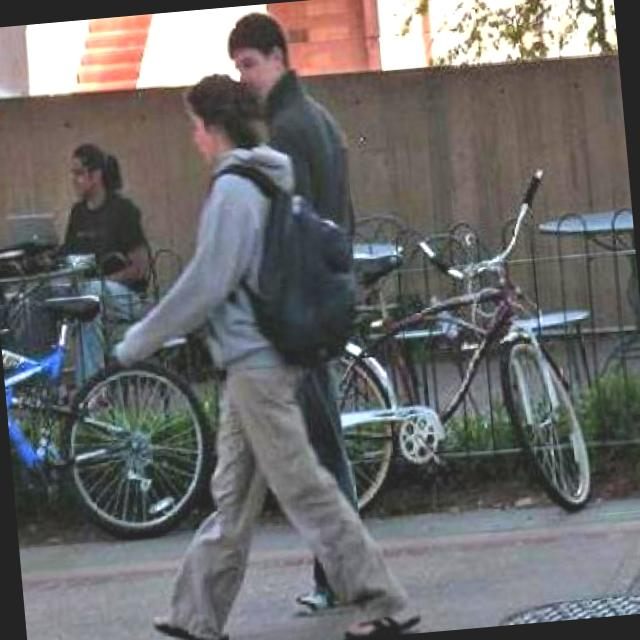Person: (76, 50, 429, 640), (199, 0, 379, 240), (34, 135, 160, 283), (0, 135, 5, 272)
